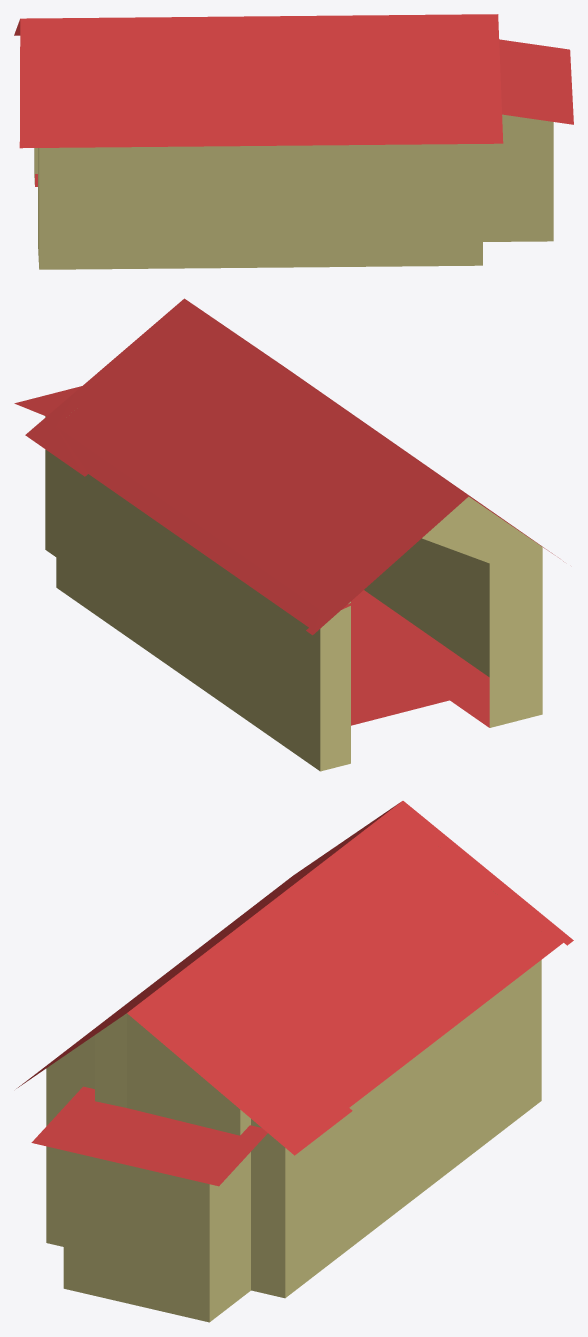
3 renders of one model, top to bottom at view 1: azimuth 30°, elevation 25°; view 2: azimuth 150°, elevation 25°; view 3: azimuth 270°, elevation 25°, orthographic. The views are drawn at different scales.
Bounding box in the file's own units: 22.64 × 17.61 × 8.96.
